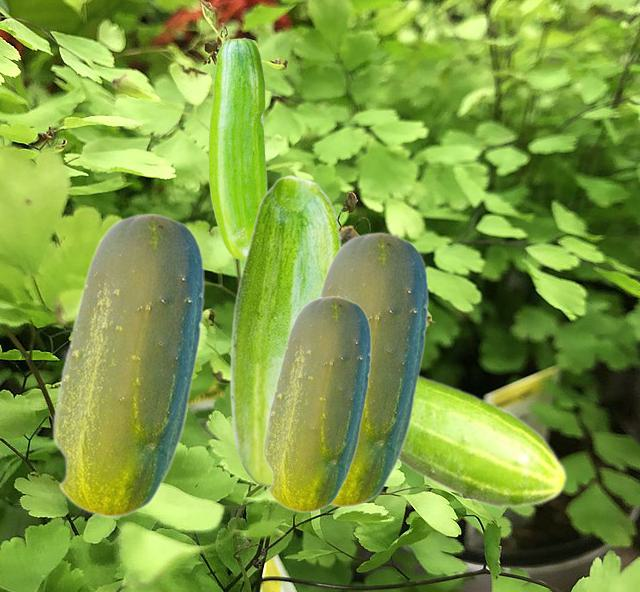cucumber: (51, 212, 203, 517), (229, 175, 343, 486), (316, 231, 427, 507), (262, 295, 370, 512), (399, 372, 567, 509), (208, 37, 267, 259)
